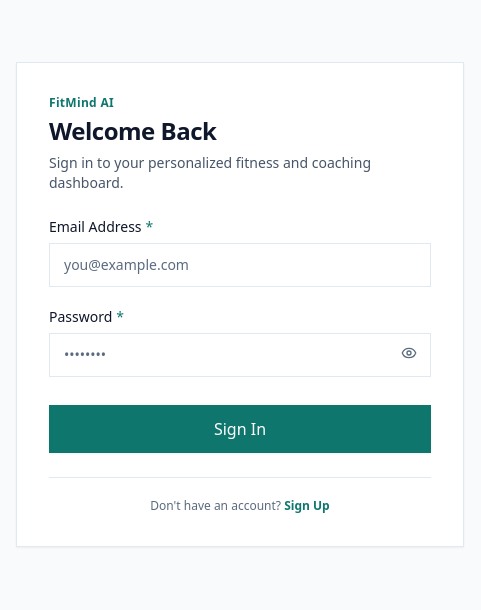
it: Auth Navigation › navigates between Login and Signup pages
Check: the heading "Welcome Back" is shown, box [49, 114, 216, 146]
Click the link "Sign Up": (307, 505) [284, 496, 330, 514]
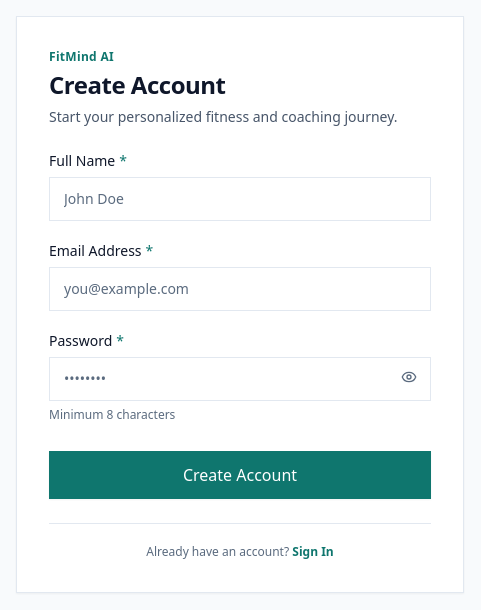
Check: the heading "Create Account" is shown, box [49, 68, 226, 100]
Click the link "Sign In": (313, 551) [292, 542, 334, 560]
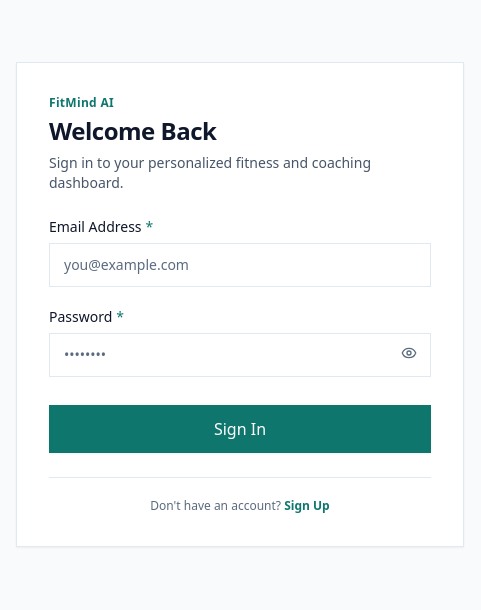
Check: the heading "Welcome Back" is shown, box [49, 114, 216, 146]
